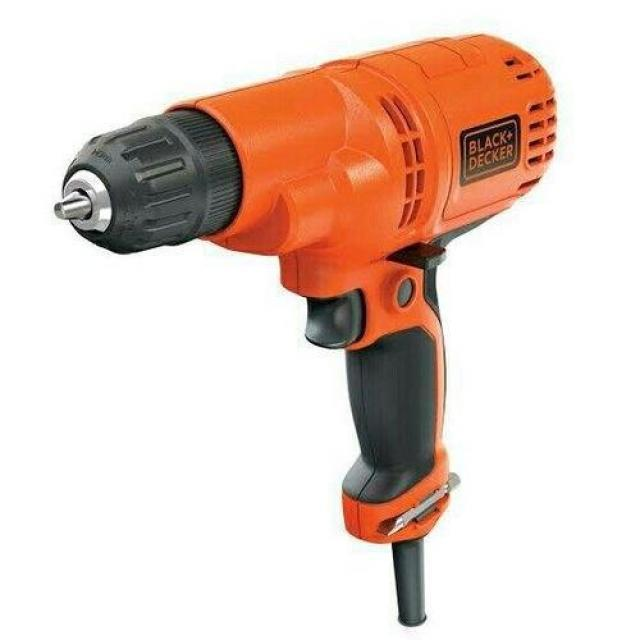drill: (54, 32, 557, 627)
